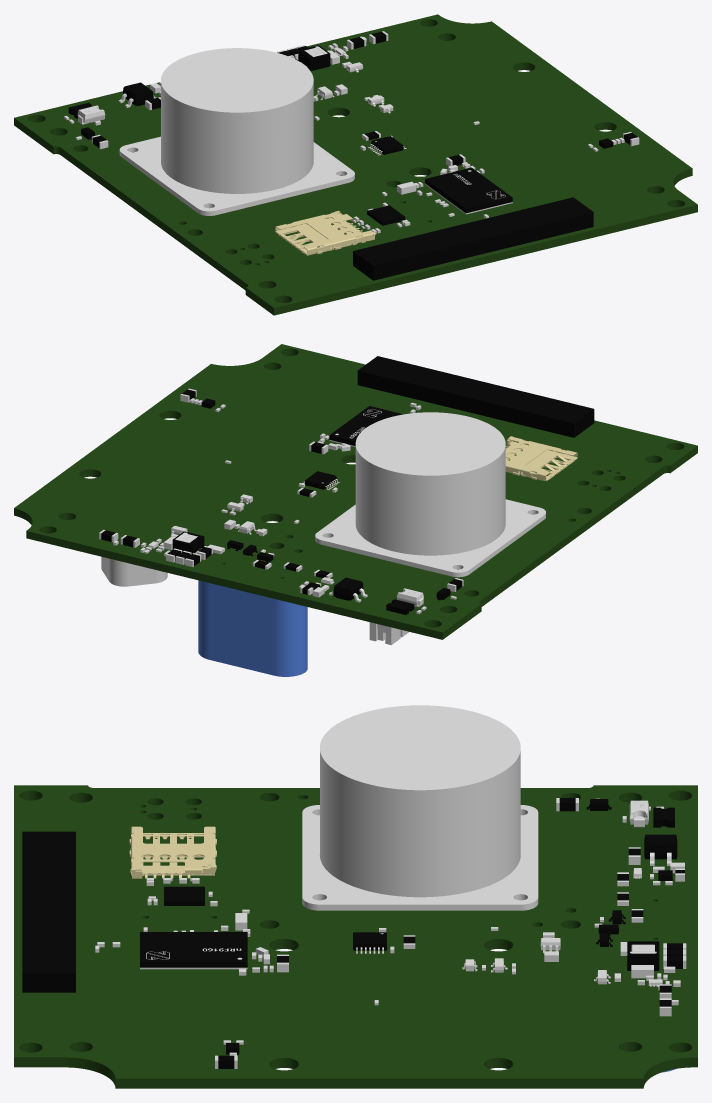
3 views of the same model, one above another, from view 1: azimuth 30°, elevation 25°; view 2: azimuth 150°, elevation 25°; view 3: azimuth 270°, elevation 25° (orthographic). The views are drawn at different scales.
Parts seen in each view (by area): view 1: Open CASCADE STEP translator 7.5 1.1.002, Extruded.420, Extruded.243, MEC_480A_Linse_Hyperbolic_RGB8421504, Open CASCADE STEP translator 7.5 1.82.1.1, nRF9160_v5, Extruded.245, SRR4828A_RGB8421504.005, MBS-2_TO-269AA.001; view 2: Open CASCADE STEP translator 7.5 1.1.002, Extruded.420, Extruded.419, Extruded.243, MEC_480A_Linse_Hyperbolic_RGB8421504, Open CASCADE STEP translator 7.5 1.82.1.1, SUMIDA-CDRH127_L125_RGB8421504.006, nRF9160_v5, B2B-PH-SM4-TB; view 3: Open CASCADE STEP translator 7.5 1.1.002, Extruded.420, Extruded.243, MEC_480A_Linse_Hyperbolic_RGB8421504, nRF9160_v5, Open CASCADE STEP translator 7.5 1.82.1.1, Extruded.245, MBS-2_TO-269AA.001, Open CASCADE STEP translator 6.8 2.2.1, SRR4828A_RGB8421504.005.
Part boxes in pixels (x1,y1,x2,y2): Open CASCADE STEP translator 7.5 1.1.002: [14, 14, 697, 315]; Extruded.420: [161, 48, 313, 193]; Extruded.243: [353, 197, 593, 280]; MEC_480A_Linse_Hyperbolic_RGB8421504: [119, 136, 354, 215]; Open CASCADE STEP translator 7.5 1.82.1.1: [275, 210, 375, 255]; nRF9160_v5: [425, 167, 512, 213]; Extruded.245: [367, 205, 405, 225]; SRR4828A_RGB8421504.005: [298, 45, 330, 71]; MBS-2_TO-269AA.001: [123, 82, 153, 105]; Open CASCADE STEP translator 7.5 1.1.002: [14, 344, 697, 639]; Extruded.420: [355, 412, 505, 555]; Extruded.419: [198, 580, 307, 676]; Extruded.243: [357, 356, 594, 437]; MEC_480A_Linse_Hyperbolic_RGB8421504: [315, 499, 545, 577]; Open CASCADE STEP translator 7.5 1.82.1.1: [505, 436, 577, 481]; SUMIDA-CDRH127_L125_RGB8421504.006: [101, 556, 167, 586]; nRF9160_v5: [329, 406, 403, 445]; B2B-PH-SM4-TB: [369, 622, 408, 645]; Open CASCADE STEP translator 7.5 1.1.002: [14, 785, 697, 1088]; Extruded.420: [320, 705, 520, 897]; Extruded.243: [22, 831, 75, 992]; MEC_480A_Linse_Hyperbolic_RGB8421504: [302, 805, 538, 910]; nRF9160_v5: [140, 932, 247, 967]; Open CASCADE STEP translator 7.5 1.82.1.1: [129, 826, 216, 878]; Extruded.245: [164, 886, 204, 905]; MBS-2_TO-269AA.001: [644, 834, 677, 859]; Open CASCADE STEP translator 6.8 2.2.1: [353, 932, 386, 950]; SRR4828A_RGB8421504.005: [627, 941, 659, 970].
Bounding box in the file's own units: 1.55 × 0.574 × 1.53.
